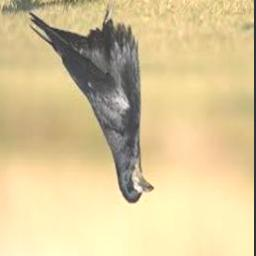Crow: (27, 0, 154, 204)
